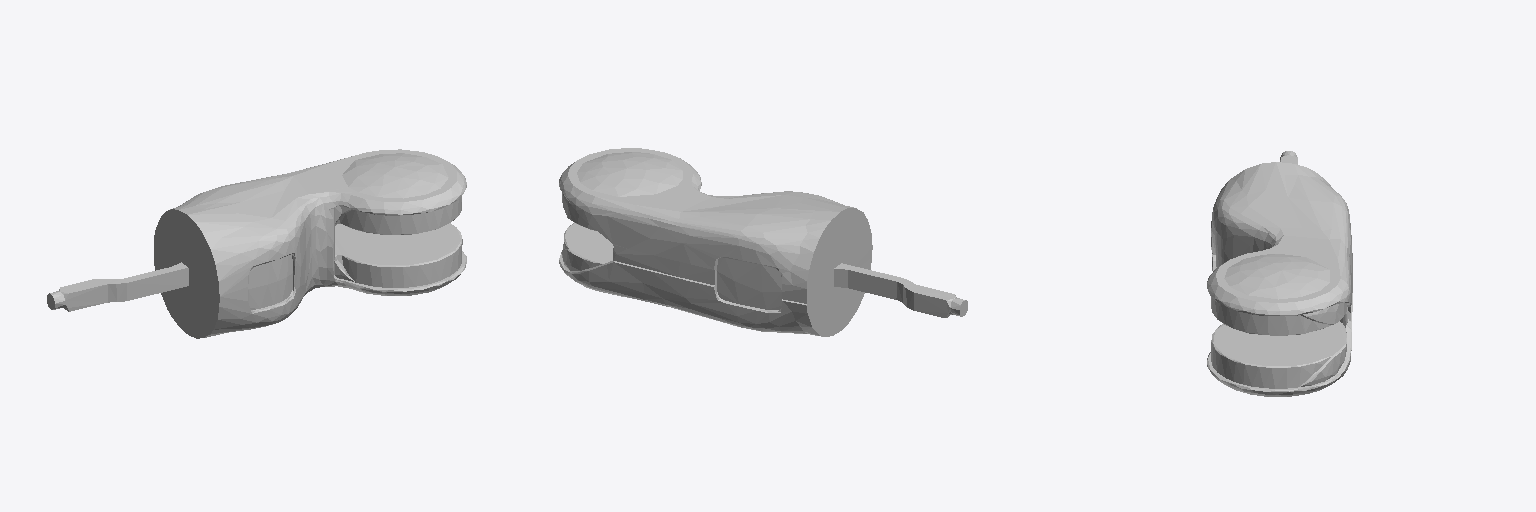
Rendered from upper_arm.obj.
3 renders of one model, left to right at view 1: azimuth 30°, elevation 25°; view 2: azimuth 150°, elevation 25°; view 3: azimuth 270°, elevation 25°, orthographic.
Parts seen in each view (by area): view 1: upper_arm2_M1K_mod; view 2: upper_arm2_M1K_mod; view 3: upper_arm2_M1K_mod.
Boxes of the visible parts, box(x1,y1,x2,y2) form: upper_arm2_M1K_mod: box(47, 149, 466, 338); upper_arm2_M1K_mod: box(559, 148, 967, 336); upper_arm2_M1K_mod: box(1207, 151, 1352, 396).
Bounding box in the file's own units: 0.5351 × 0.1524 × 0.1694.